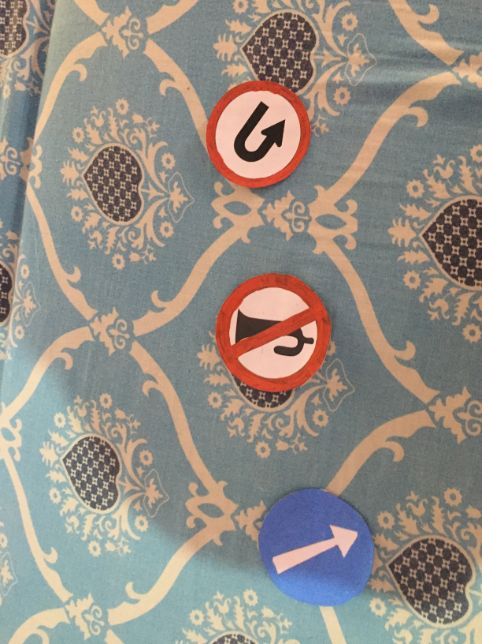blow-horn: (216, 273, 335, 392)
keep-left: (259, 489, 372, 602)
u-turn: (207, 82, 313, 188)
